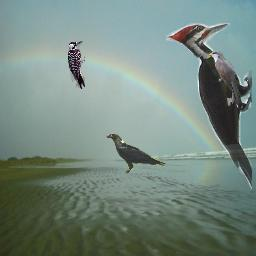Crow: (105, 133, 166, 174)
Cuckoo: (206, 50, 244, 110)
Woodpecker: (166, 23, 252, 190), (68, 41, 85, 89)
